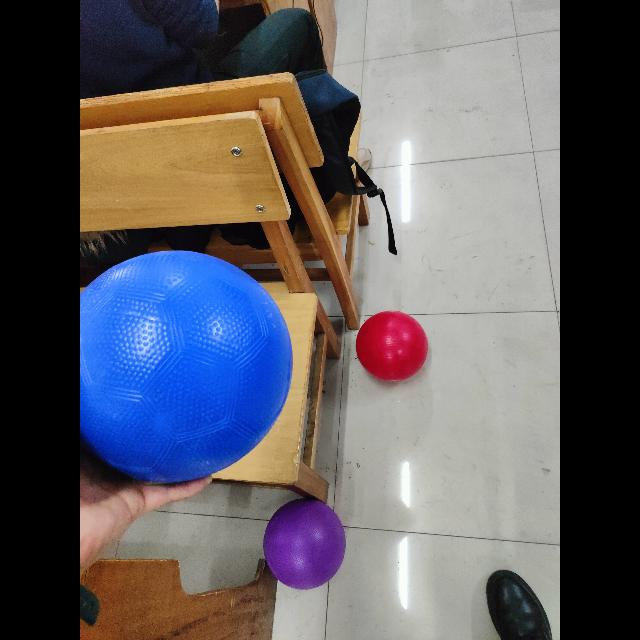B: (80, 248, 298, 487)
P: (263, 498, 347, 592)
R: (356, 312, 430, 384)
